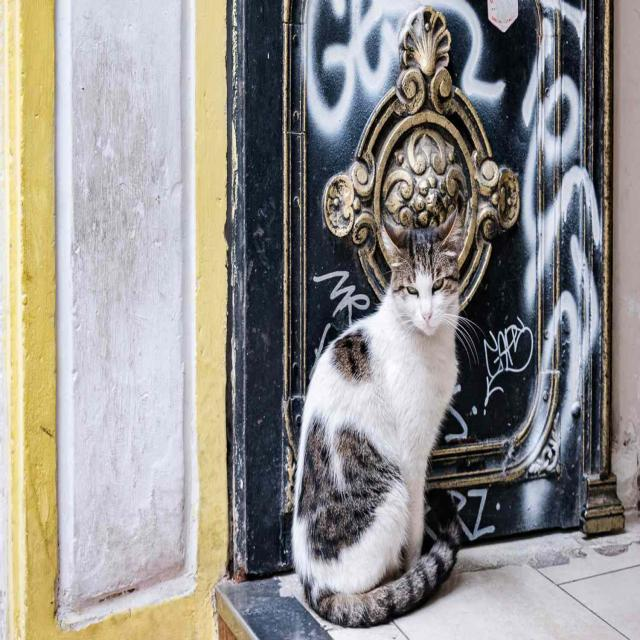cat: (292, 210, 462, 626)
